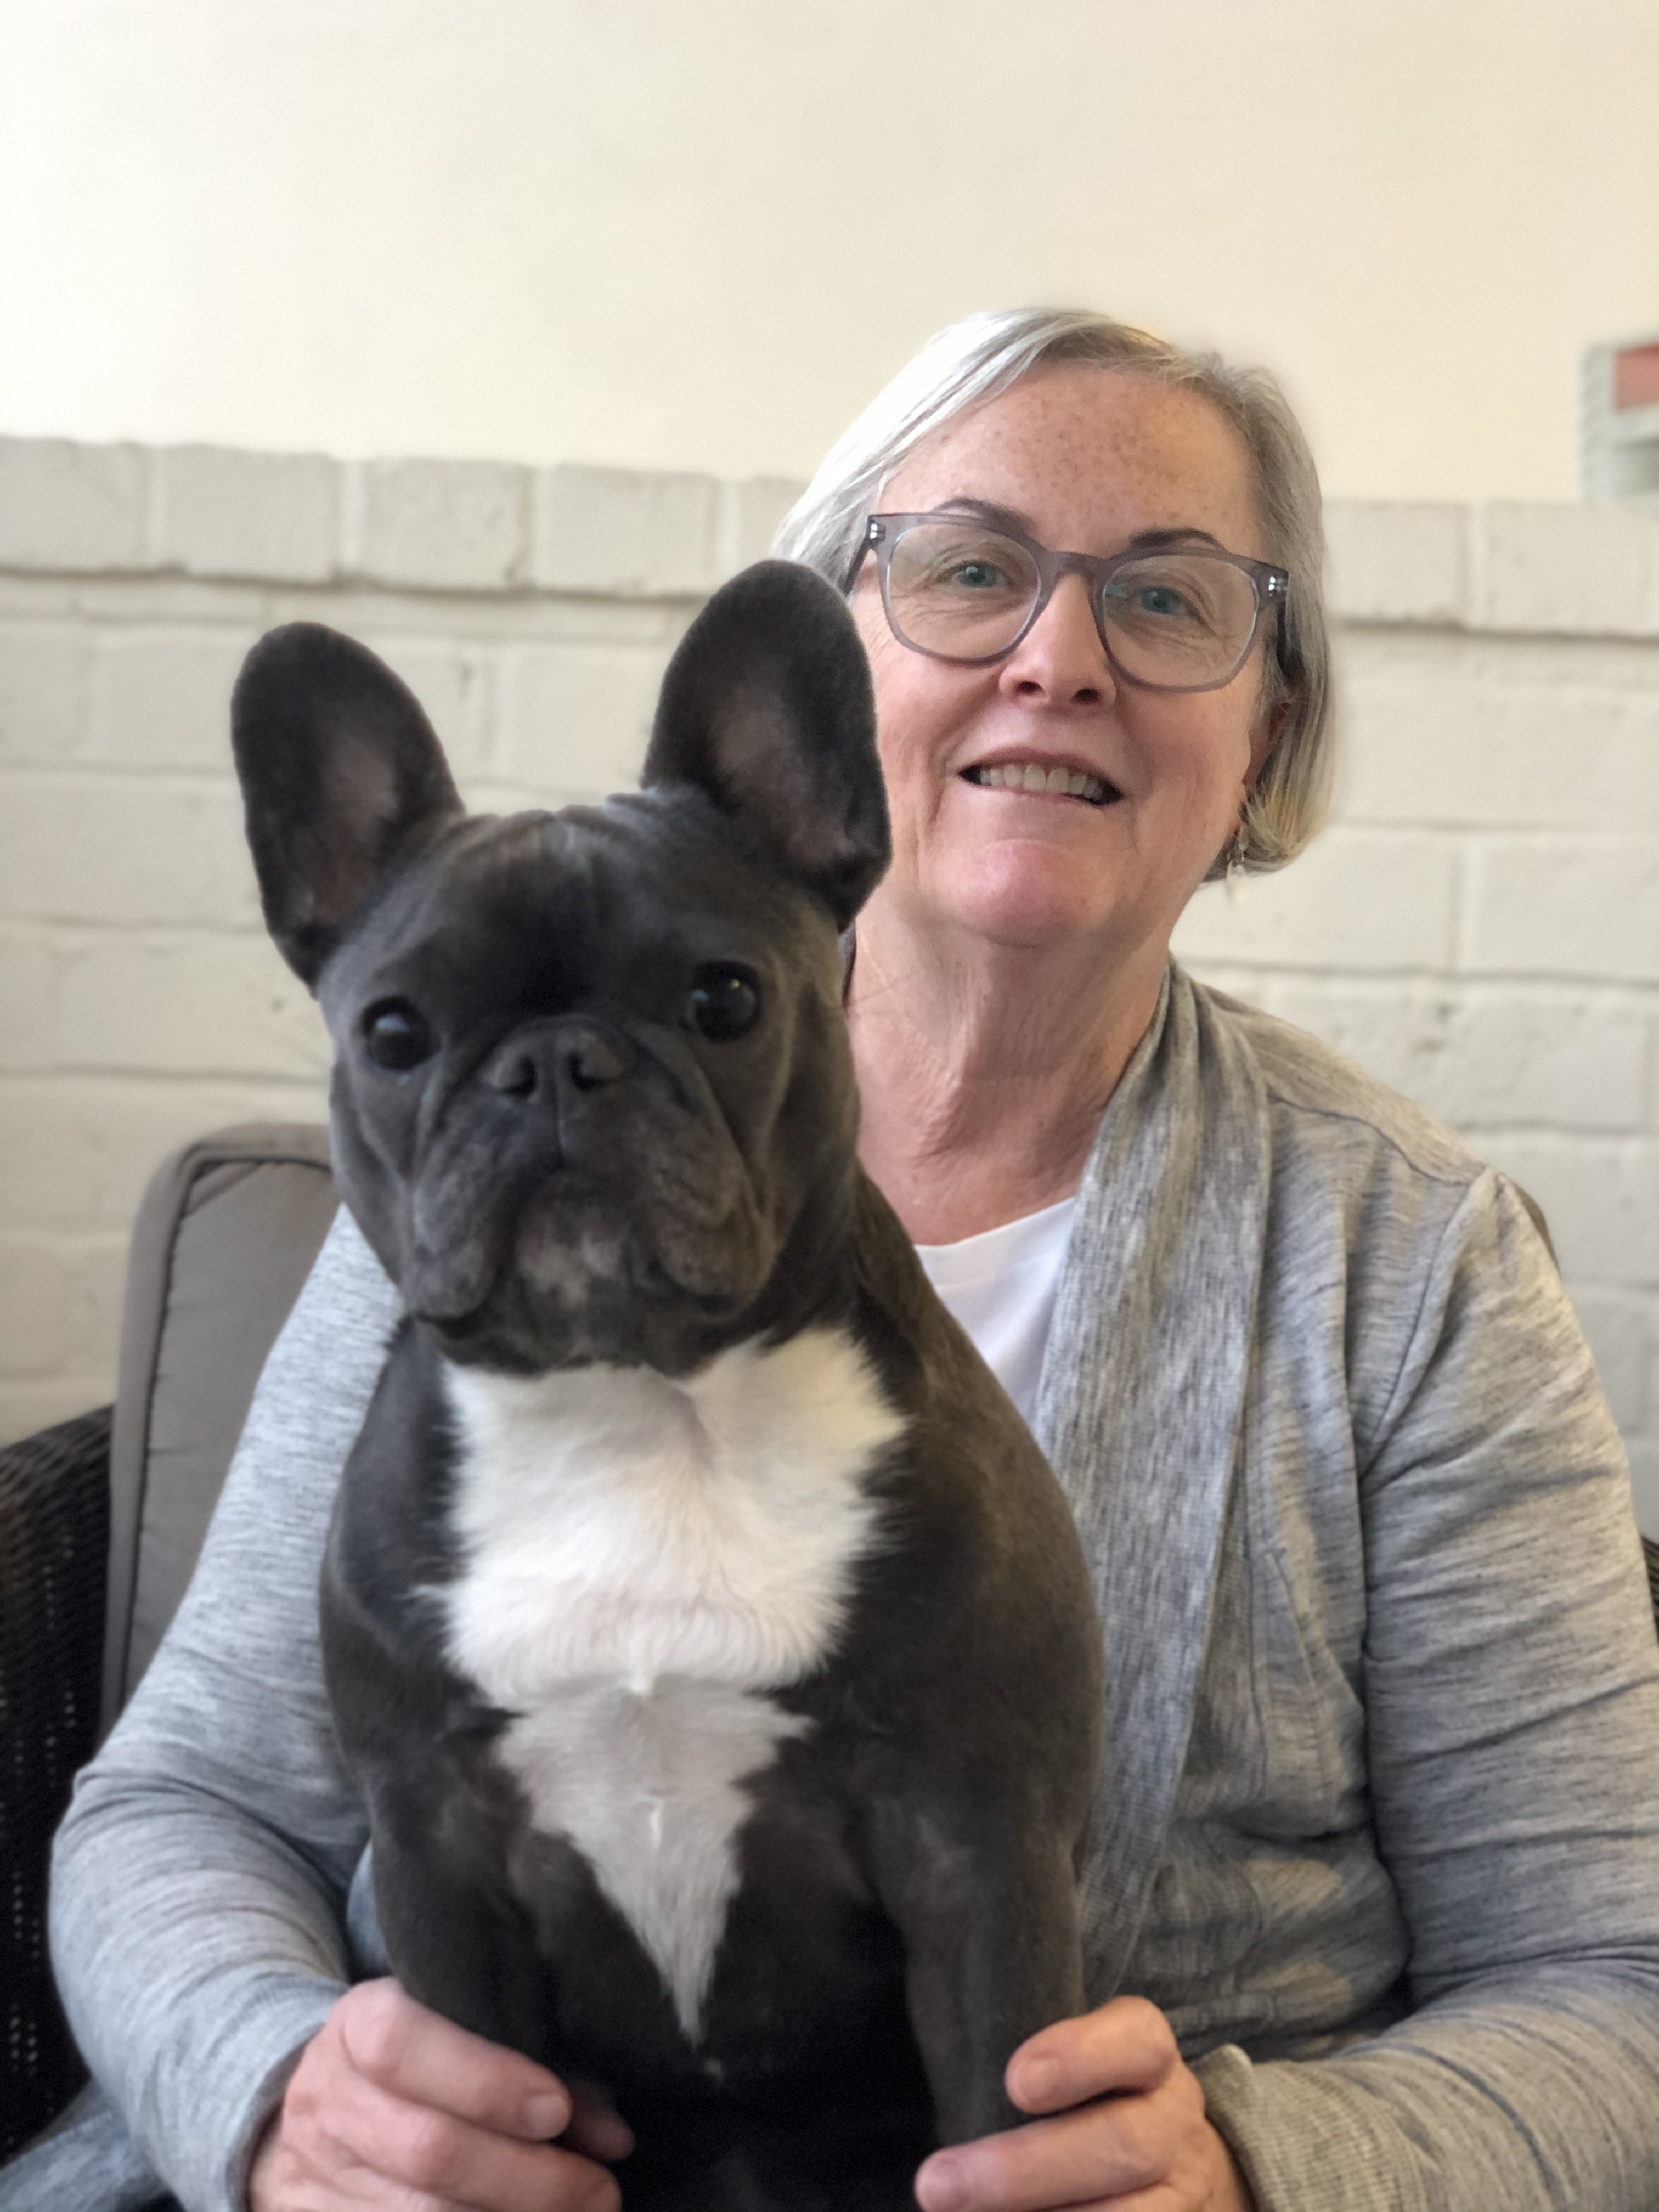lucy: (213, 554, 1094, 2196)
